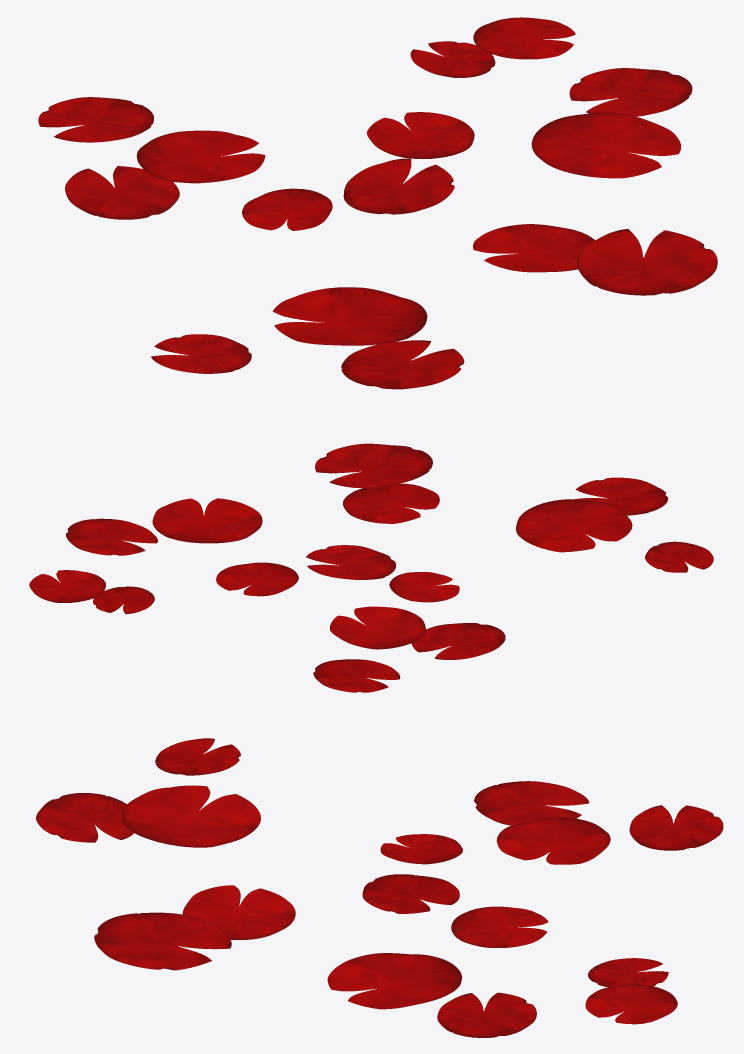
File: SM_Water_Lily_01.fbx
The picture shows the model from 3 angles, top to bottom: view 1: azimuth 30°, elevation 25°; view 2: azimuth 150°, elevation 25°; view 3: azimuth 270°, elevation 25°; orthographic projection. The views are drawn at different scales.
Visible parts, largest first — view 1: SM_Water_Lily_01; view 2: SM_Water_Lily_01; view 3: SM_Water_Lily_01.
Boxes of the visible parts, left/top/right/bottom form: SM_Water_Lily_01: left=38, top=17, right=717, bottom=389; SM_Water_Lily_01: left=29, top=443, right=713, bottom=692; SM_Water_Lily_01: left=36, top=738, right=723, bottom=1037.
Size of the model in its own units: 462 by 6.77 by 450.
